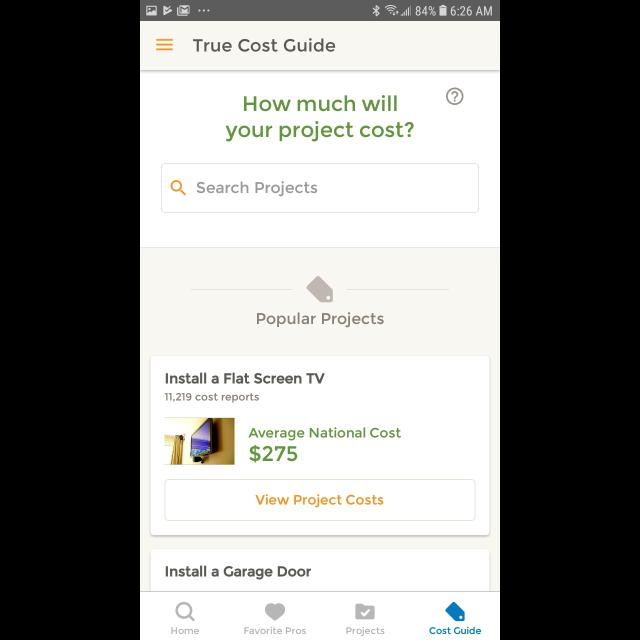icon: (306, 276, 334, 304), (176, 602, 196, 622), (445, 602, 465, 622), (265, 603, 285, 621), (446, 87, 464, 105), (356, 604, 374, 620), (171, 180, 187, 196), (156, 38, 174, 52)
image: (165, 418, 235, 464)
input: (161, 164, 479, 212)
text: (226, 96, 414, 142), (248, 427, 402, 463), (165, 564, 311, 580), (256, 312, 384, 328), (192, 38, 336, 52), (196, 181, 318, 197), (166, 372, 324, 384), (164, 393, 260, 403), (245, 626, 307, 634), (429, 626, 481, 634), (346, 626, 386, 636), (172, 626, 200, 634)
textbutton: (164, 479, 476, 521)
uppertaskbar: (140, 1, 500, 22)
